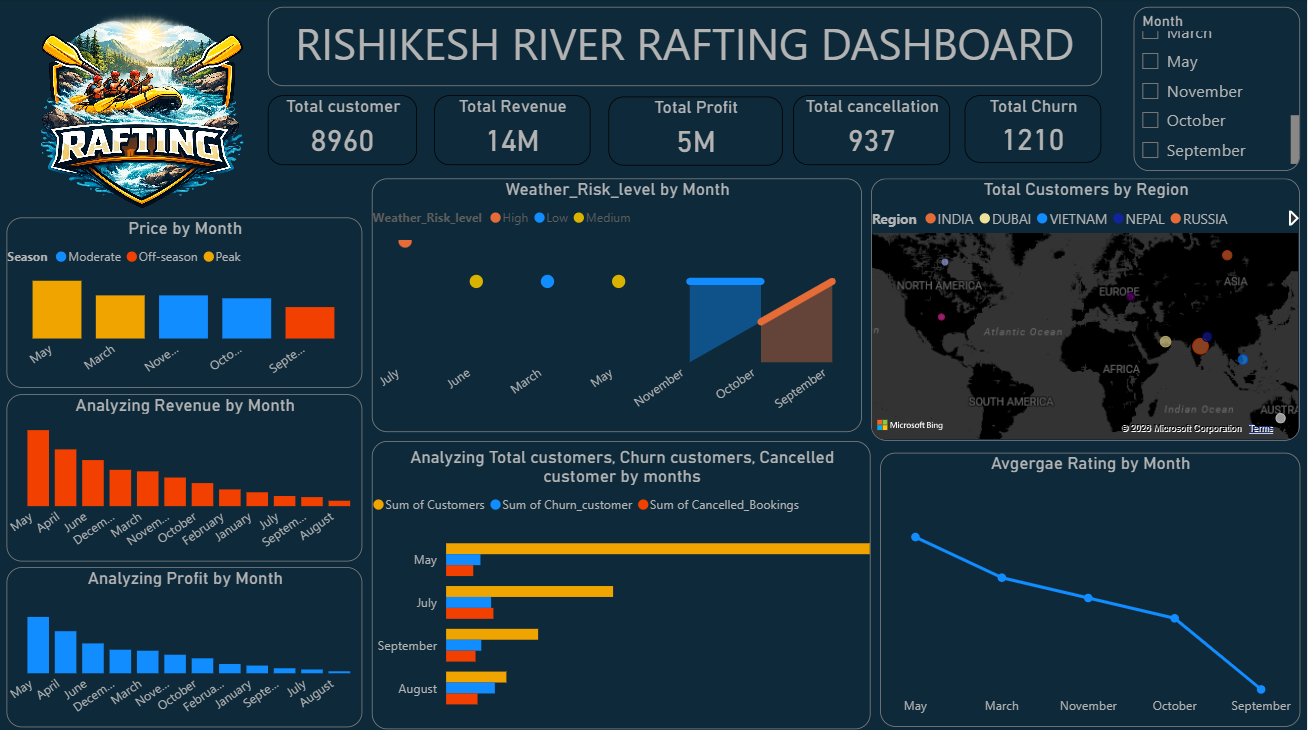

Layout of this report page (visuals, bound fields, positions):
{"tool":"powerbi","page":{"name":"Page 1","canvas":[1280,720],"ordinal":0},"visuals":[{"type":"columnChart","title":"Analyzing Profit by Month","fields":{"Category":["rishikesh_rafting_master_dataset_all_months.Month"],"Y":["Sum(rishikesh_rafting_master_dataset_all_months.Profit)"]},"box":[6.4,556.3,348.8,156.6],"z":0},{"type":"card","title":"Total Revenue","fields":{"Values":["Sum(rishikesh_rafting_master_dataset_all_months.Revenue)"]},"box":[425.2,94.2,152.8,68.7],"z":1000},{"type":"card","title":"Total Profit","fields":{"Values":["Sum(rishikesh_rafting_master_dataset_all_months.Profit)"]},"box":[595.8,95.5,170.6,67.5],"z":2000},{"type":"card","title":"Total cancellation","fields":{"Values":["Sum(rishikesh_rafting_master_dataset_all_months.Cancelled_Bookings)"]},"box":[776.6,94.2,154,68.7],"z":3000},{"type":"card","title":"Total Churn","fields":{"Values":["Sum(rishikesh_rafting_master_dataset_all_months.Churn_customer)"]},"box":[944.6,94.2,133.7,66.2],"z":4000},{"type":"clusteredBarChart","title":"Analyzing Total customers, Churn customers, Cancelled customer by months","fields":{"Category":["rishikesh_rafting_master_dataset_all_months.Month"],"Y":["Sum(rishikesh_rafting_master_dataset_all_months.Customers)","Sum(rishikesh_rafting_master_dataset_all_months.Churn_customer)","Sum(rishikesh_rafting_master_dataset_all_months.Cancelled_Bookings)"]},"box":[364.1,432.8,488.8,282.6],"z":5000},{"type":"columnChart","title":"Price by Month","fields":{"Series":["rishikesh_rafting_master_dataset_all_months.Season"],"Y":["Sum(rishikesh_rafting_master_dataset_all_months.Avg_Price)"],"Category":["rishikesh_rafting_master_dataset_all_months.Month"]},"box":[6.4,213.9,348.8,166.8],"z":6000},{"type":"columnChart","title":"Analyzing Revenue by Month","fields":{"Category":["rishikesh_rafting_master_dataset_all_months.Month"],"Y":["Sum(rishikesh_rafting_master_dataset_all_months.Revenue)"]},"box":[6,387,348.8,164.2],"z":7000},{"type":"slicer","fields":{"Values":["rishikesh_rafting_master_dataset_all_months.Month"]},"box":[1110.1,7.6,162.9,160.4],"z":8000},{"type":"textbox","box":[262,7.3,816.6,77.6],"z":9000},{"type":"map","title":"Total Customers by Region ","fields":{"Category":["rishikesh_rafting_master_dataset_all_months.Region"],"Series":["rishikesh_rafting_master_dataset_all_months.Region"],"Size":["Sum(rishikesh_rafting_master_dataset_all_months.Customers)"]},"box":[852.9,175.7,420.1,257.2],"z":10000},{"type":"image","box":[5.9,0,269.3,232.7],"z":11000},{"type":"lineChart","title":" Avgergae Rating by Month","fields":{"Y":["Sum(rishikesh_rafting_master_dataset_all_months.Avg_Rating)"],"Category":["rishikesh_rafting_master_dataset_all_months.Month"]},"box":[861.8,444.3,411.2,268.6],"z":12000},{"type":"stackedAreaChart","title":"Weather_Risk_level by Month","fields":{"Y":["CountNonNull(rishikesh_rafting_master_dataset_all_months.Weather_Risk_level)"],"Category":["rishikesh_rafting_master_dataset_all_months.Month"],"Series":["rishikesh_rafting_master_dataset_all_months.Weather_Risk_level"]},"box":[364.1,175.7,479.9,248.2],"z":13000},{"type":"card","title":"Total customer","fields":{"Values":["Sum(rishikesh_rafting_master_dataset_all_months.Customers)"]},"box":[262.2,94.2,146.4,68.7],"z":13001}]}

Visuals, with their boxes in screenshot pixels (x1, y1, x2, y2), scaled from the page's 1280x720 canvas onto the 1308x730 screenshot:
"Analyzing Profit by Month" columnChart: x1=7, y1=564, x2=363, y2=723
"Total Revenue" card: x1=435, y1=96, x2=591, y2=165
"Total Profit" card: x1=609, y1=97, x2=783, y2=165
"Total cancellation" card: x1=794, y1=96, x2=951, y2=165
"Total Churn" card: x1=965, y1=96, x2=1102, y2=163
"Analyzing Total customers, Churn customers, Cancelled customer by months" clusteredBarChart: x1=372, y1=439, x2=872, y2=725
"Price by Month" columnChart: x1=7, y1=217, x2=363, y2=386
"Analyzing Revenue by Month" columnChart: x1=6, y1=392, x2=363, y2=559
slicer - rishikesh_rafting_master_dataset_all_months.Month: x1=1134, y1=8, x2=1301, y2=170
textbox: x1=268, y1=7, x2=1102, y2=86
"Total Customers by Region " map: x1=872, y1=178, x2=1301, y2=439
image: x1=6, y1=0, x2=281, y2=236
" Avgergae Rating by Month" lineChart: x1=881, y1=450, x2=1301, y2=723
"Weather_Risk_level by Month" stackedAreaChart: x1=372, y1=178, x2=862, y2=430
"Total customer" card: x1=268, y1=96, x2=418, y2=165
